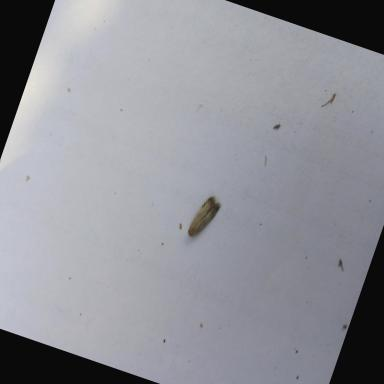pbw: (186, 192, 224, 244)
